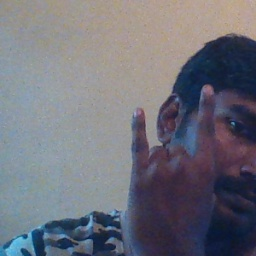V: (124, 84, 227, 256)
